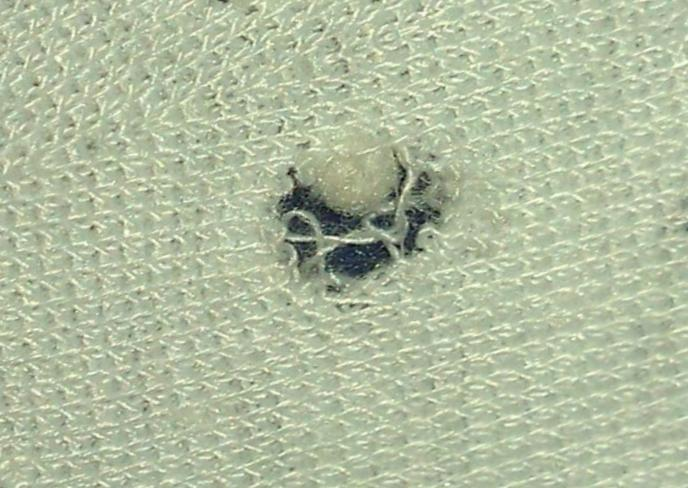hole: (280, 131, 435, 220)
